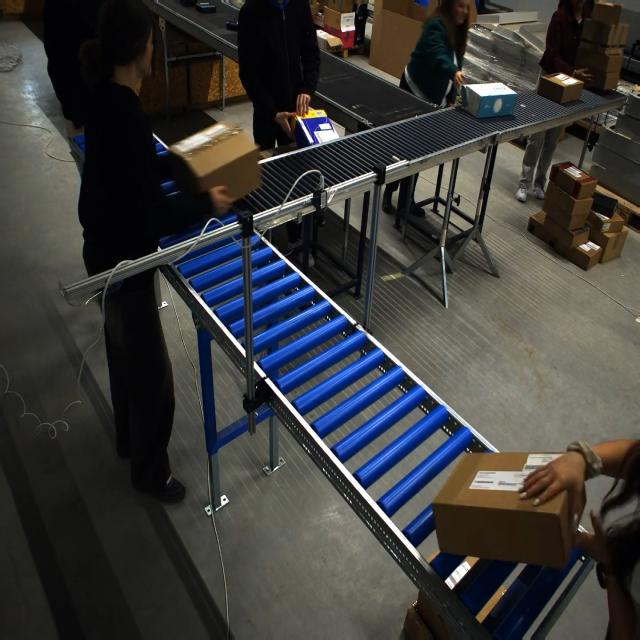box: (432, 453, 576, 568), (169, 119, 262, 203), (458, 82, 517, 119), (293, 109, 333, 147)
product: (195, 1, 217, 13), (180, 0, 199, 8), (225, 20, 238, 31)
